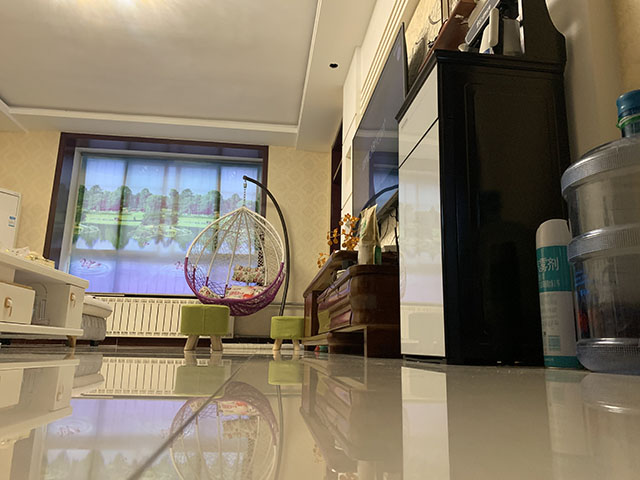cabinet: (396, 1, 571, 368), (300, 249, 401, 358)
stool: (178, 303, 231, 352), (269, 315, 305, 351)
table: (1, 246, 90, 348)
